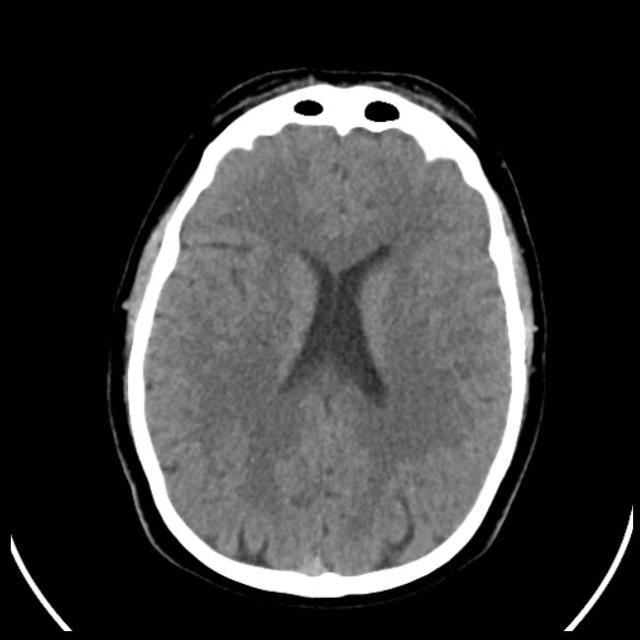lesion: (111, 74, 542, 593)
